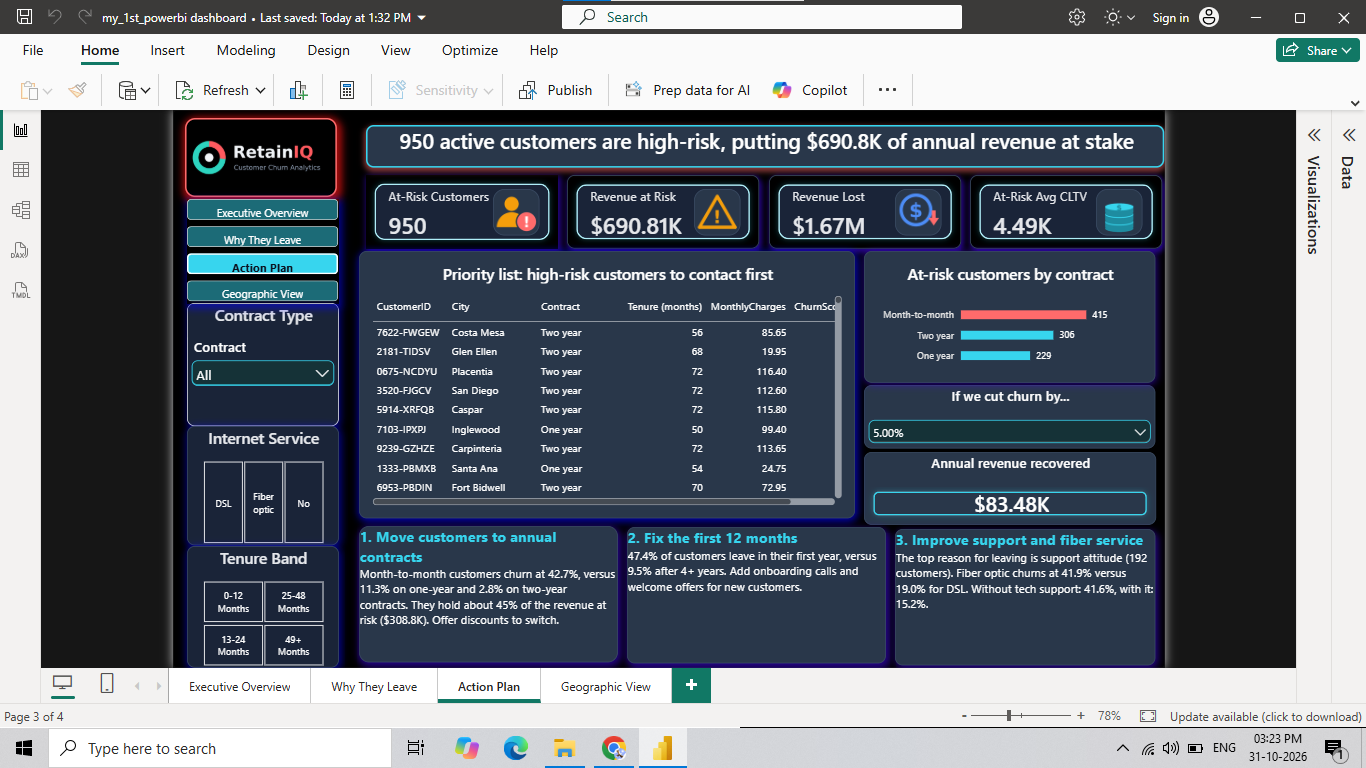

The page's visual inventory and layout, read from the dashboard file:
{"tool":"powerbi","page":{"name":"Action Plan","canvas":[1280,720],"ordinal":2},"visuals":[{"type":"slicer","title":"If we cut churn by...","fields":{"Values":["Churn Reduction.Churn Reduction"]},"box":[892,355,376,82],"z":0},{"type":"cardVisual","title":"Annual revenue recovered","fields":{"Data":["_Measures.Potential Savings"]},"box":[892,441,377,94],"z":1000},{"type":"textbox","title":"950 active customers are high-risk, putting $690.8K of annual revenue at stake","box":[248.7,19.9,1030,55],"z":2000},{"type":"slicer","title":"Contract Type","fields":{"Values":["Customers.Contract"]},"box":[18.6,249.4,195.6,158.7],"z":3000},{"type":"slicer","title":"Internet Service","fields":{"Values":["Customers.InternetService"]},"box":[18.6,408.2,195.6,154.5],"z":4000},{"type":"slicer","title":"Tenure Band","fields":{"Values":["Customers.TenureBand"]},"box":[18.6,562.7,195.6,157.3],"z":5000},{"type":"image","box":[15.7,10.9,195.6,102],"z":6000},{"type":"pageNavigator","box":[18.6,114.8,195.6,134.6],"z":7000},{"type":"cardVisual","title":"Total Customers","fields":{"Data":["_Measures.At-Risk Customers"]},"box":[248.7,83.6,248,95],"z":8000},{"type":"cardVisual","fields":{"Data":["_Measures.Revenue Lost"]},"box":[768.7,83.6,248,95],"z":9000},{"type":"cardVisual","fields":{"Data":["_Measures.At-Risk Avg CLTV"]},"box":[1028.7,83.6,248,95],"z":10000},{"type":"cardVisual","title":"Churned","fields":{"Data":["_Measures.Revenue at Risk"]},"box":[508.7,83.6,248,95],"z":11000},{"type":"tableEx","title":"Priority list: high-risk customers to contact first","fields":{"Values":["Customers.CustomerID","Customers.City","Customers.Contract","Sum(Customers.TenureMonths)","Customers.MonthlyCharges","Customers.ChurnScore","Customers.CLTV"]},"box":[240,182,640,345],"z":12000},{"type":"clusteredBarChart","title":"At-risk customers by contract","fields":{"Category":["Customers.Contract"],"Y":["_Measures.At-Risk Customers"]},"box":[892,182,376,170],"z":13000},{"type":"textbox","box":[240,537,334,176],"z":14000},{"type":"textbox","box":[586,538,334,176],"z":15000},{"type":"textbox","box":[932,540,336,176],"z":16000},{"type":"image","box":[931.4,101.4,60,60],"z":17000},{"type":"image","box":[672.9,101.4,60,60],"z":18000},{"type":"image","box":[1191.4,101.4,60,60],"z":19000},{"type":"image","box":[413,101.4,60,60],"z":20000}]}

Visuals, with their boxes on the page's 1280x720 design canvas (x1, y1, x2, y2). These are canvas units, not pixel positions in the 1366x768 screenshot, which may show the page scaled, cropped or inside an application window:
"If we cut churn by..." slicer: [left=892, top=355, right=1268, bottom=437]
"Annual revenue recovered" cardVisual: [left=892, top=441, right=1269, bottom=535]
"950 active customers are high-risk, putting $690.8K of annual revenue at stake" textbox: [left=249, top=20, right=1279, bottom=75]
"Contract Type" slicer: [left=19, top=249, right=214, bottom=408]
"Internet Service" slicer: [left=19, top=408, right=214, bottom=563]
"Tenure Band" slicer: [left=19, top=563, right=214, bottom=720]
image: [left=16, top=11, right=211, bottom=113]
pageNavigator: [left=19, top=115, right=214, bottom=249]
"Total Customers" cardVisual: [left=249, top=84, right=497, bottom=179]
cardVisual - _Measures.Revenue Lost: [left=769, top=84, right=1017, bottom=179]
cardVisual - _Measures.At-Risk Avg CLTV: [left=1029, top=84, right=1277, bottom=179]
"Churned" cardVisual: [left=509, top=84, right=757, bottom=179]
"Priority list: high-risk customers to contact first" tableEx: [left=240, top=182, right=880, bottom=527]
"At-risk customers by contract" clusteredBarChart: [left=892, top=182, right=1268, bottom=352]
textbox: [left=240, top=537, right=574, bottom=713]
textbox: [left=586, top=538, right=920, bottom=714]
textbox: [left=932, top=540, right=1268, bottom=716]
image: [left=931, top=101, right=991, bottom=161]
image: [left=673, top=101, right=733, bottom=161]
image: [left=1191, top=101, right=1251, bottom=161]
image: [left=413, top=101, right=473, bottom=161]
